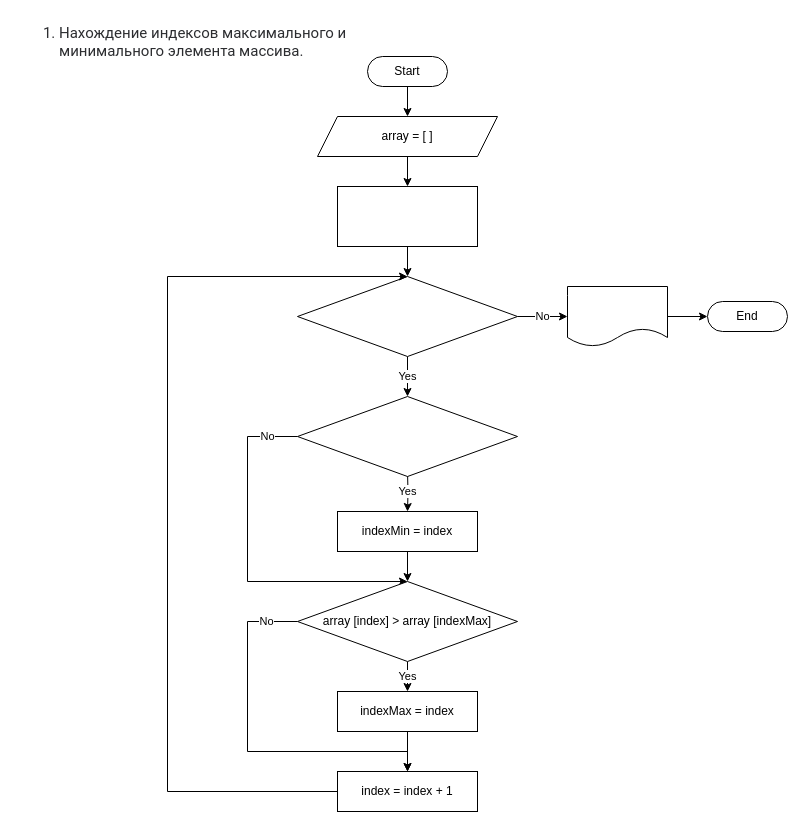
This 805x829 diagram has some shape labels left out. Each missing label, with the centre of its shape:
"array [index] < array [indexMin]" goes at point (407, 436).
"index < array.length()" goes at point (407, 316).
"index = 0 indexMin = index indexMax = index" goes at point (407, 216).
"indexMin indexMax" goes at point (617, 316).
